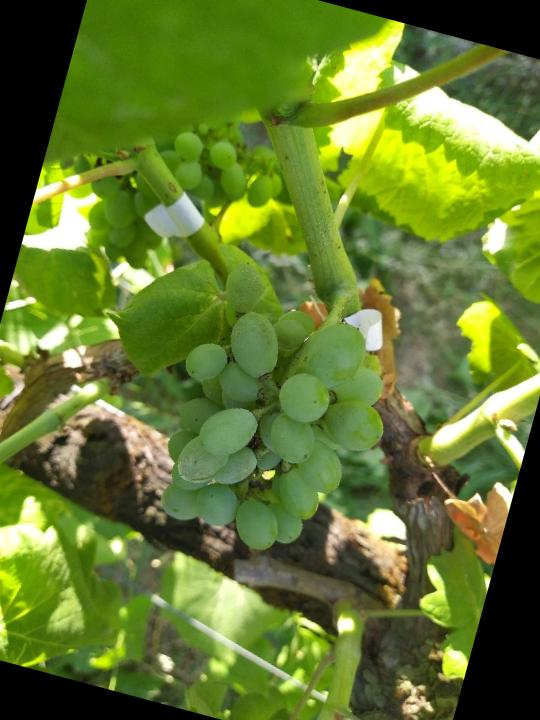grape: (135, 248, 424, 578)
